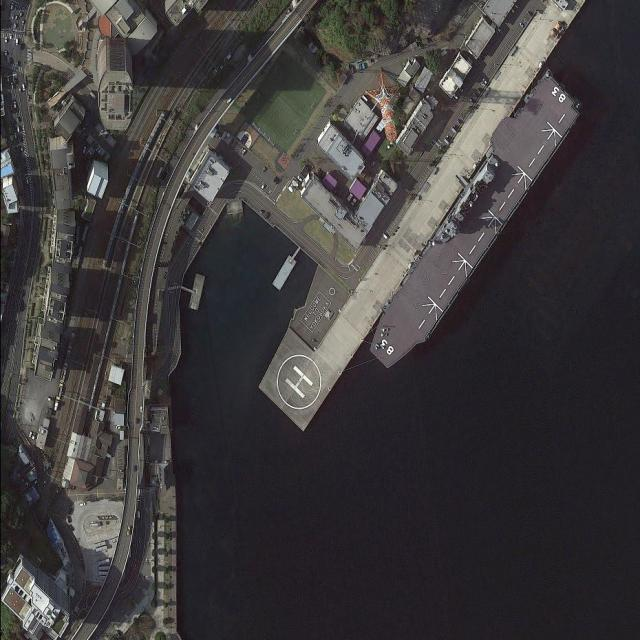Destroyer: (354, 74, 586, 374)
